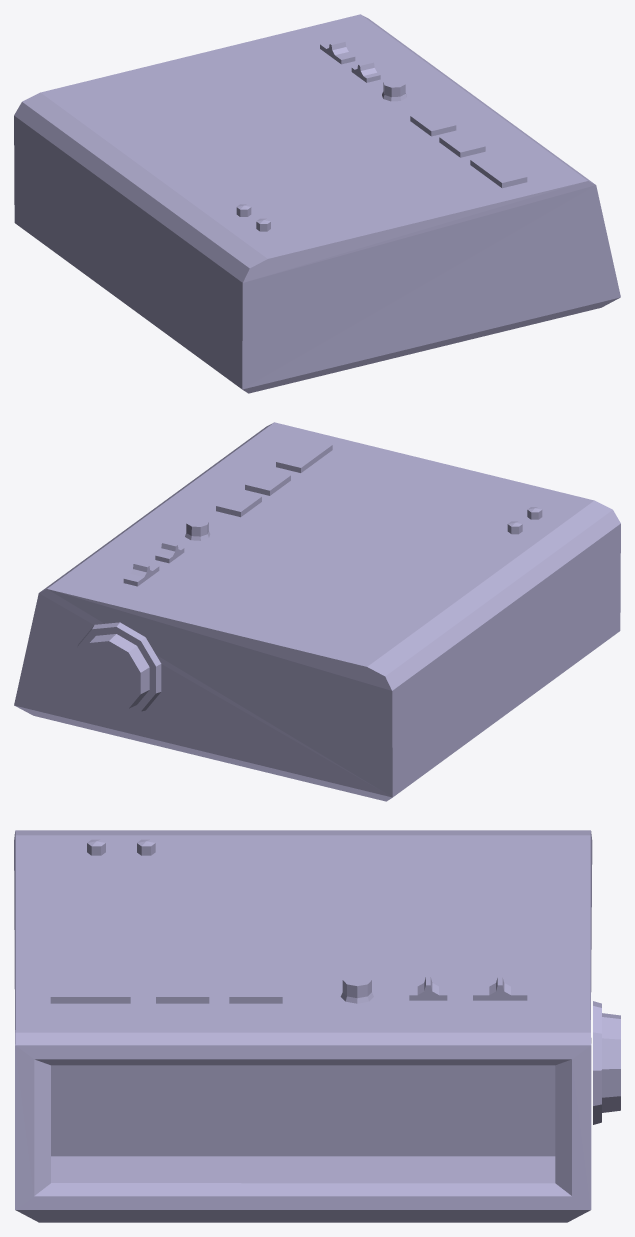
3 views of the same model, one above another, from view 1: azimuth 30°, elevation 25°; view 2: azimuth 150°, elevation 25°; view 3: azimuth 270°, elevation 25° (orthographic). The views are drawn at different scales.
Parts seen in each view (by area): view 1: Object_0; view 2: Object_0; view 3: Object_0.
Part boxes in pixels (x1,y1,x2,y2): Object_0: (14, 14, 620, 393); Object_0: (14, 422, 620, 801); Object_0: (14, 830, 620, 1222).
Size of the model in its own units: 1.92 by 0.7406 by 2.11.
